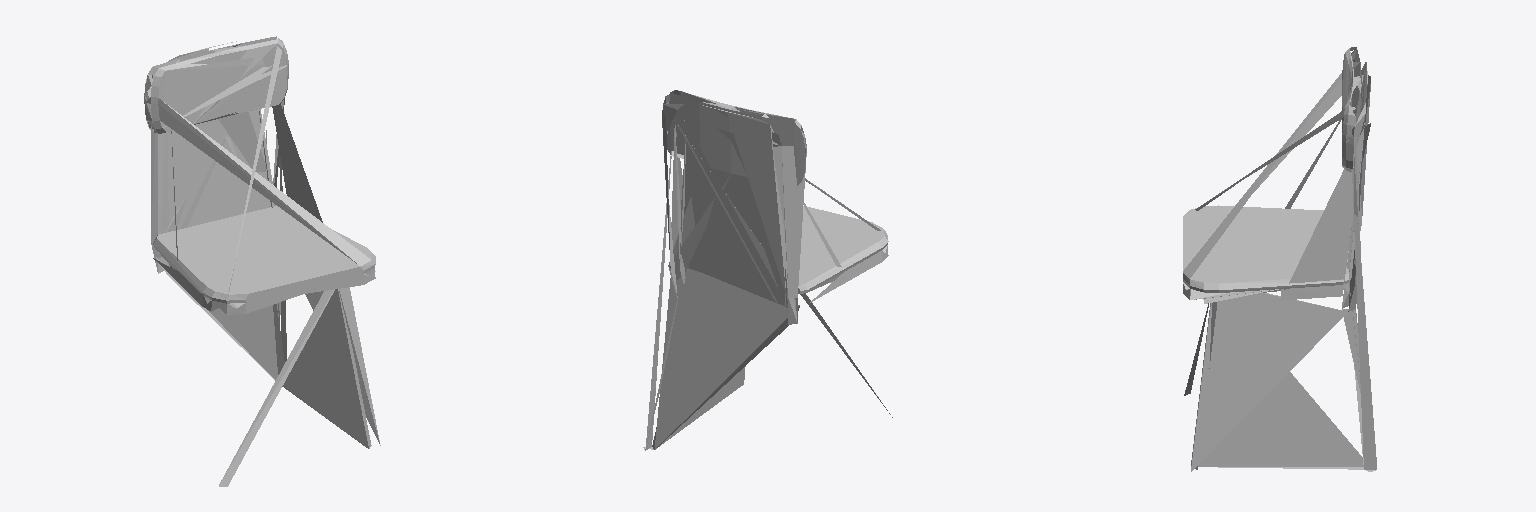
The model's file is chair.obj.
3 renders of one model, left to right at view 1: azimuth 30°, elevation 25°; view 2: azimuth 150°, elevation 25°; view 3: azimuth 270°, elevation 25°, orthographic.
Parts seen in each view (by area): view 1: Model001_4_frame_1_0_0, Model001_4_padding_1_0_0; view 2: Model001_4_frame_1_0_0, Model001_4_padding_1_0_0; view 3: Model001_4_frame_1_0_0, Model001_4_padding_1_0_0.
Part boxes in pixels (x1,y1,x2,y2): Model001_4_frame_1_0_0: (144, 36, 380, 486); Model001_4_padding_1_0_0: (151, 39, 375, 303); Model001_4_frame_1_0_0: (643, 90, 892, 450); Model001_4_padding_1_0_0: (679, 91, 888, 293); Model001_4_frame_1_0_0: (1183, 47, 1376, 471); Model001_4_padding_1_0_0: (1183, 54, 1352, 292).
Size of the model in its own units: 0.4864 by 0.9829 by 0.4889.